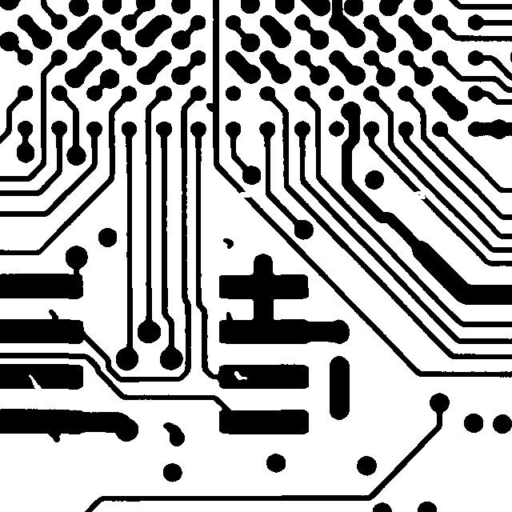copper: (155, 414, 192, 454), (215, 230, 241, 256)
mousebite: (21, 366, 51, 399)
open: (405, 183, 434, 206), (232, 184, 258, 205)
pin-hole: (226, 363, 254, 387)
spur: (40, 422, 68, 450), (41, 302, 66, 330), (218, 304, 240, 332), (198, 95, 222, 119)
